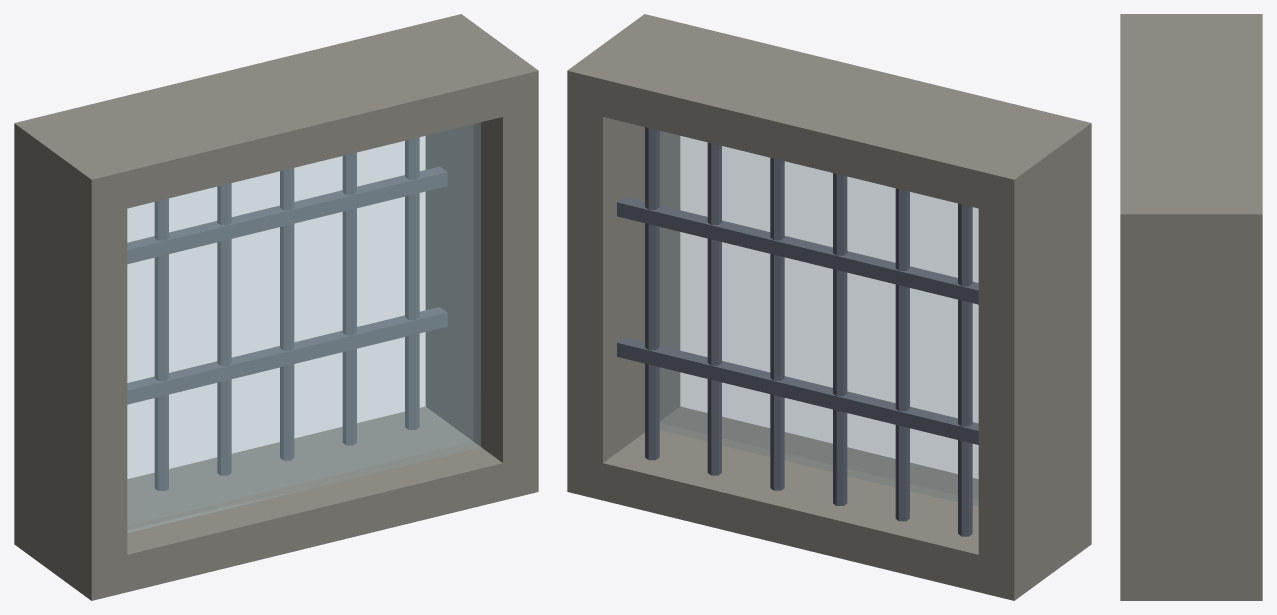
The model's file is justice.prison.window.glb.
3 renders of one model, left to right at view 1: azimuth 30°, elevation 25°; view 2: azimuth 150°, elevation 25°; view 3: azimuth 270°, elevation 25°, orthographic. The views are drawn at different scales.
Parts seen in each view (by area): view 1: main__concrete, main__glass, main__steel_painted; view 2: main__concrete, main__glass, main__steel_painted; view 3: main__concrete.
Part boxes in pixels (x1,y1,x2,y2): main__concrete: [14, 14, 538, 600]; main__glass: [127, 122, 480, 532]; main__steel_painted: [127, 137, 447, 490]; main__concrete: [567, 14, 1091, 600]; main__glass: [660, 131, 978, 507]; main__steel_painted: [617, 127, 978, 536]; main__concrete: [1120, 14, 1262, 600].
Bounding box in the file's own units: 1 × 0.9 × 0.3.
